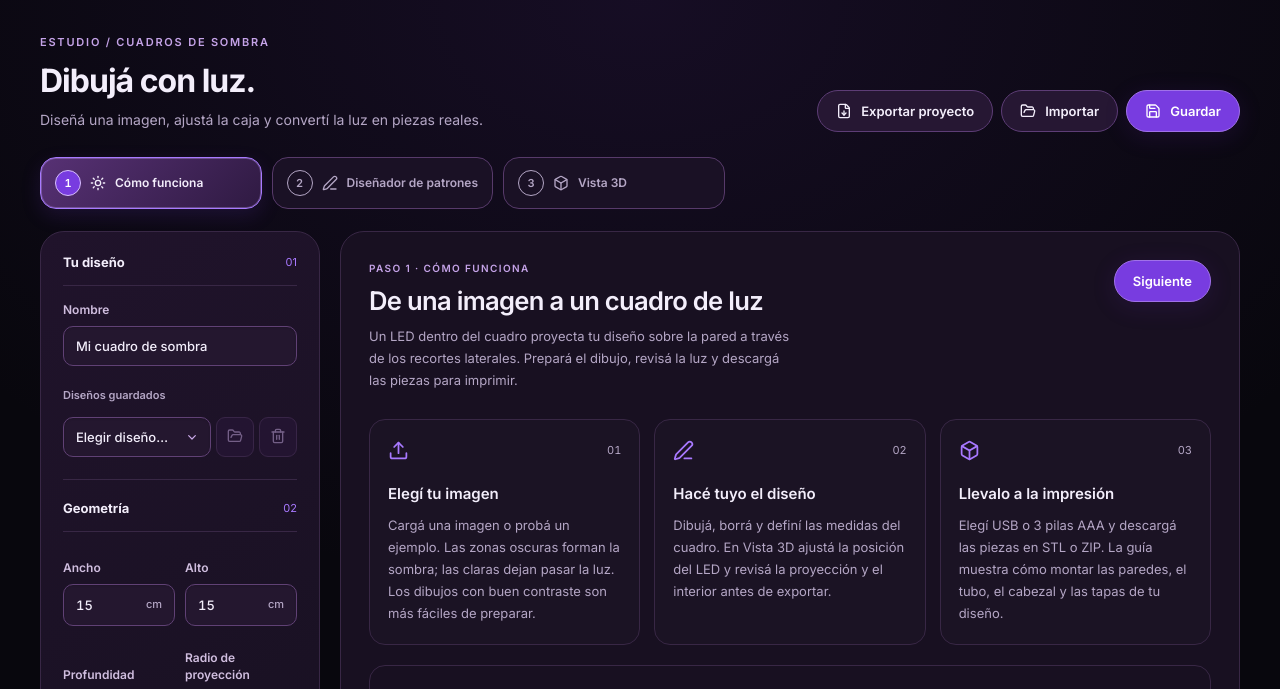
guarda el proyecto con las medidas editadas y muestra cuatro paneles
This screenshot has width=1280, height=689.
Click the button "2 Diseñador de patrones" at (382, 183), box [272, 157, 493, 209]
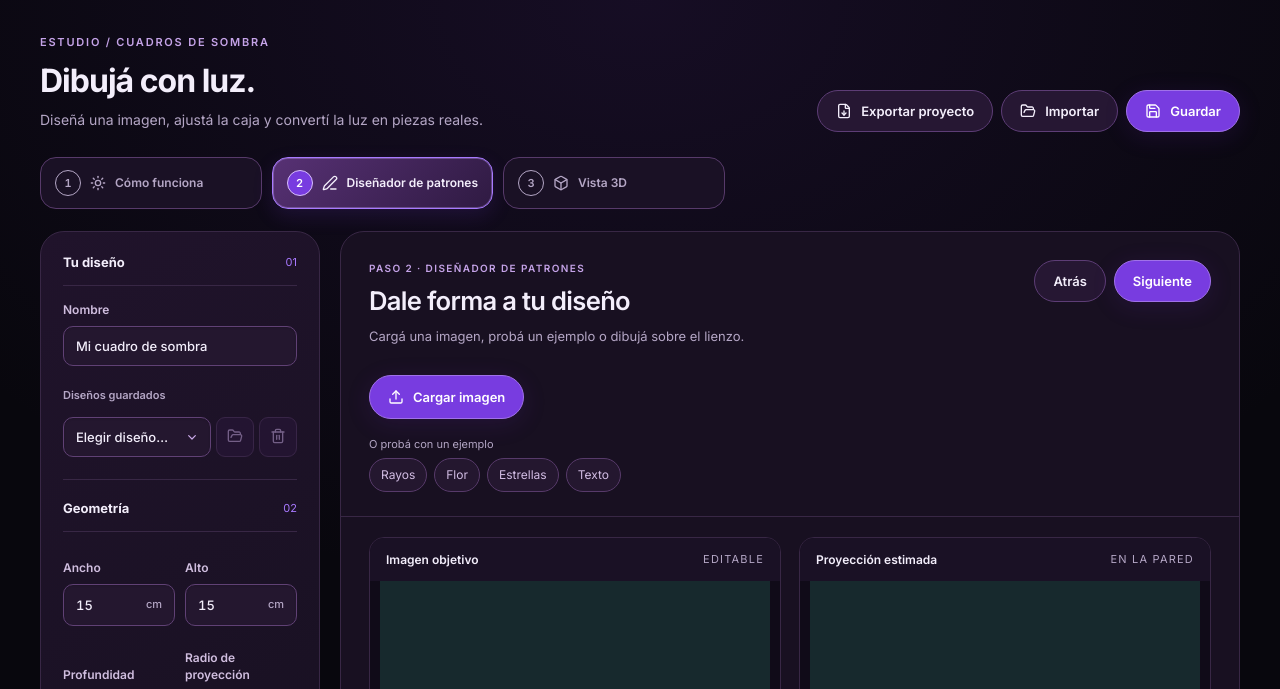
Replace the text in the number field labelled "Ancho" with "20" at (105, 605), box [64, 585, 146, 625]
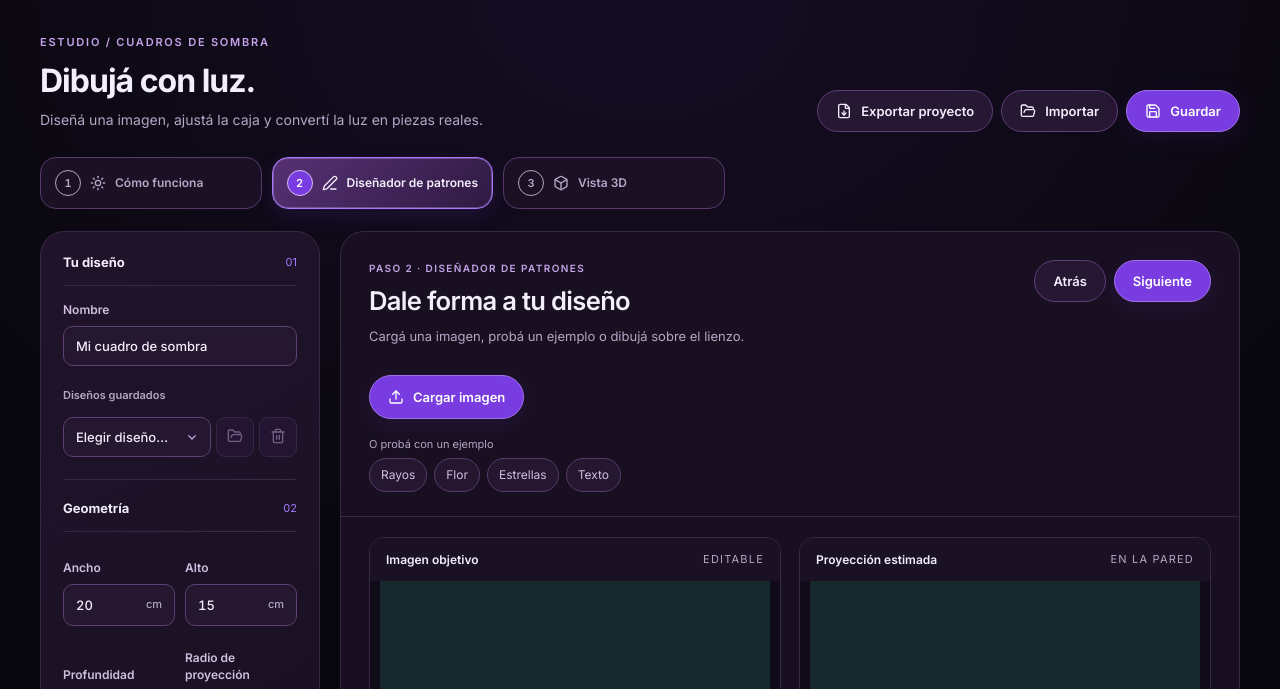
Click the button "Guardar" at (1183, 111), box [1126, 90, 1240, 132]
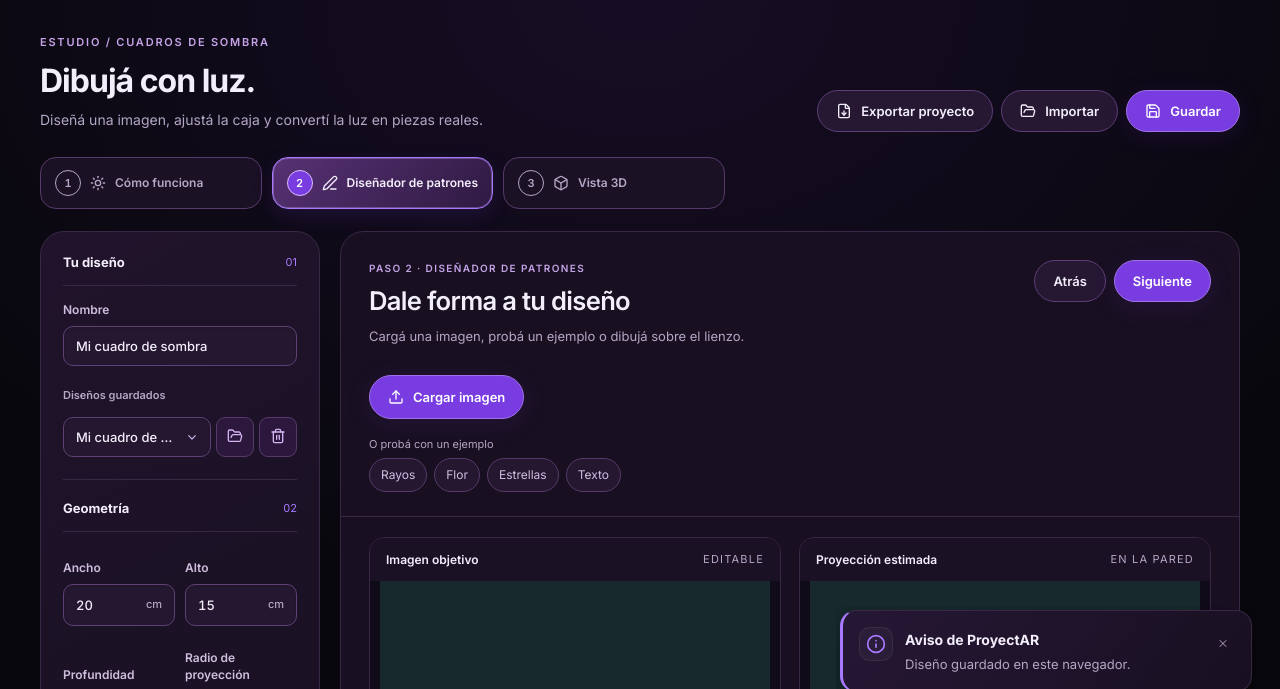
Check: the message shows "Diseño guardado", box [905, 656, 1130, 672]
